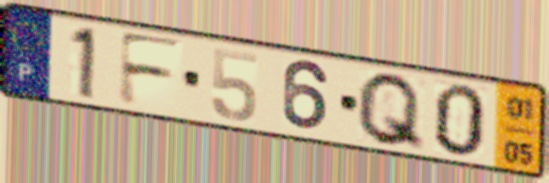0: (432, 82, 490, 160)
1: (66, 24, 99, 102)
5: (208, 45, 261, 124)
6: (280, 57, 331, 135)
F: (115, 28, 187, 109)
Q: (353, 70, 428, 154)
